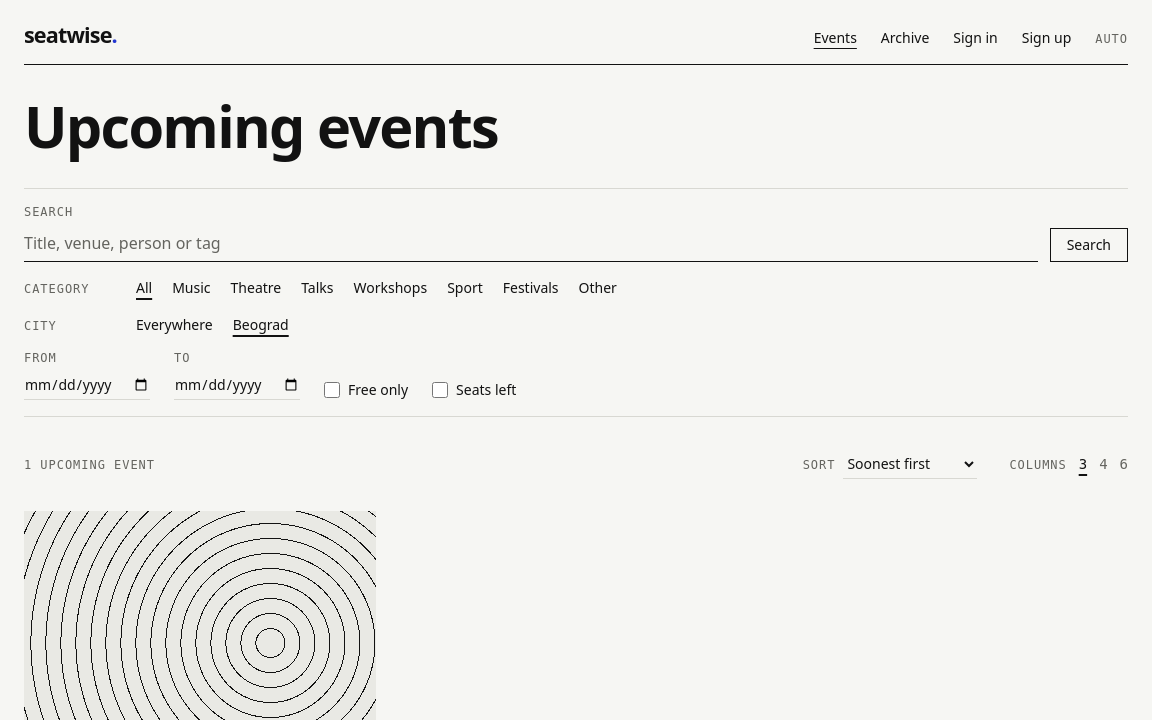
Scenario: home page list › filters by category through the URL and starts again from page 1
Click the link "Theatre" at (256, 289), box [231, 278, 281, 299]
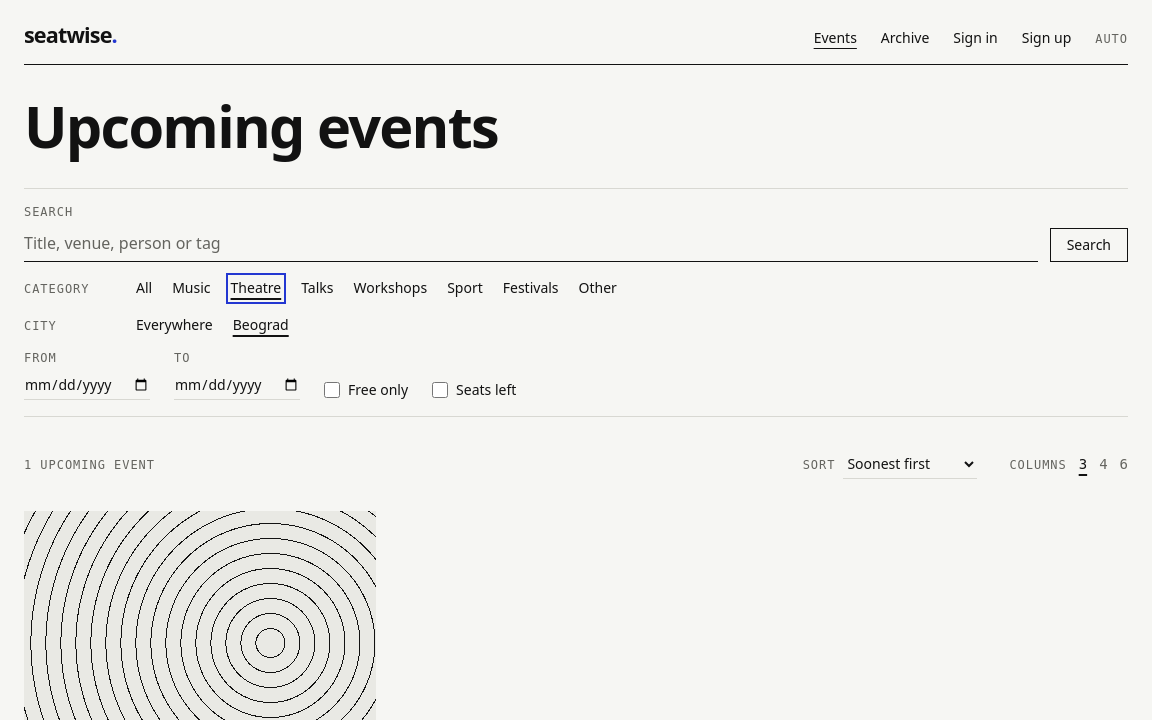
Expected: the link "Beograd" is shown, [233, 315, 289, 335]
Expected: the link "Theatre" has attribute aria-current, [231, 278, 281, 299]
Expected: the link "All" does not have attribute aria-current, [136, 278, 152, 299]
